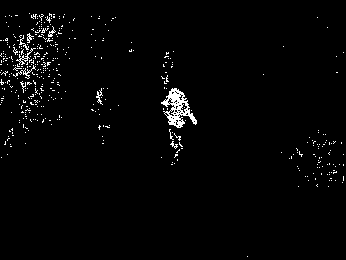person: (158, 86, 198, 171)
